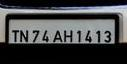1: (74, 29, 82, 42), (94, 29, 102, 42)
3: (102, 29, 111, 42)
4: (83, 29, 92, 42), (40, 29, 49, 41)
7: (31, 28, 39, 42)
A: (51, 28, 62, 41)
H: (61, 28, 73, 42)
N: (18, 28, 28, 41)
T: (10, 27, 18, 41)
